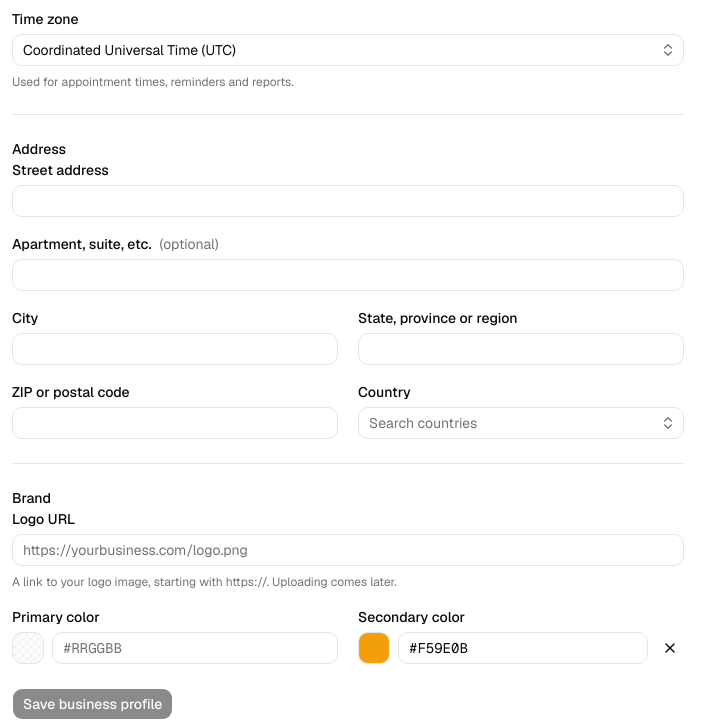
Test: WorkspaceProfileForm › lets a color be cleared
(page scrolled)
Click the button named "Clear secondary color" at (670, 648), box [656,634,684,662]
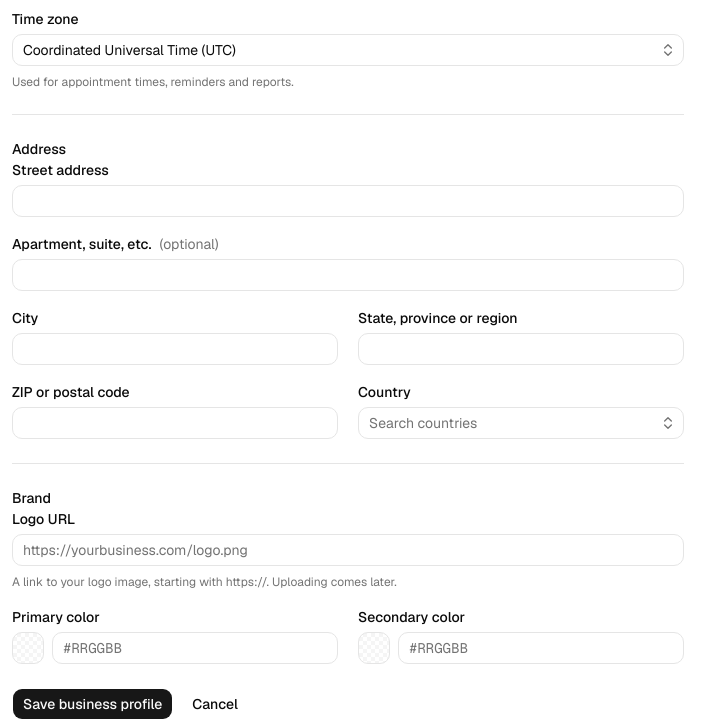
Result: the field labelled "Secondary color" is empty at [398,632,684,664]
